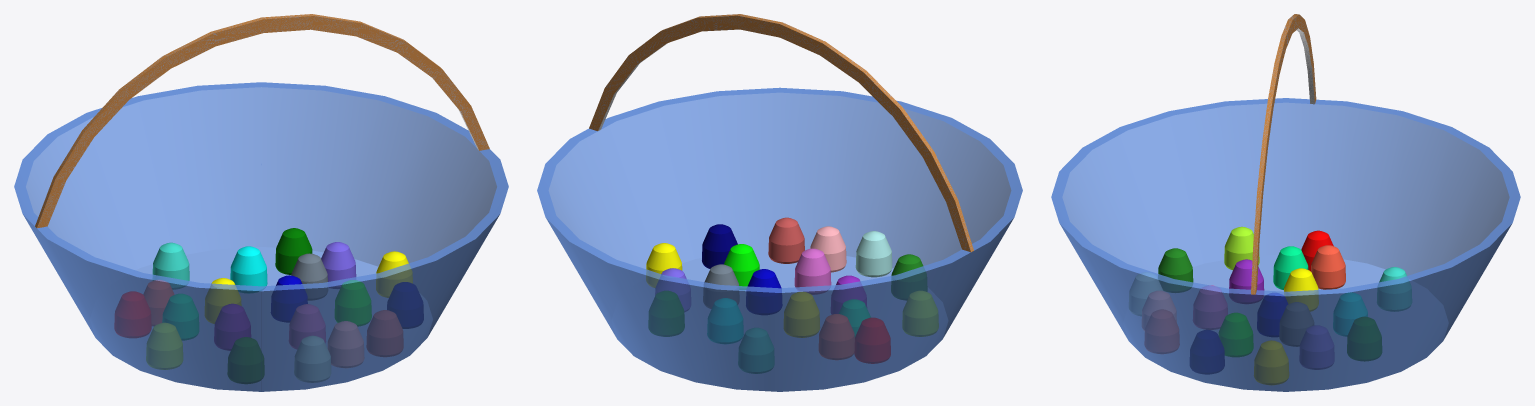
3 views of the same model, side by side, from view 1: azimuth 30°, elevation 25°; view 2: azimuth 150°, elevation 25°; view 3: azimuth 270°, elevation 25° (orthographic). The views are drawn at different scales.
Visible parts, largest first — view 1: SketchUp (×2), egg (×20); view 2: SketchUp (×2), egg (×20); view 3: SketchUp (×2), egg (×20).
Boxes of the visible parts, bbox=[...] form: SketchUp (×2): bbox=[14, 14, 508, 391]; egg (×20): bbox=[114, 228, 423, 383]; SketchUp (×2): bbox=[537, 14, 1022, 391]; egg (×20): bbox=[646, 217, 938, 373]; SketchUp (×2): bbox=[1051, 14, 1520, 391]; egg (×20): bbox=[1129, 226, 1411, 384].
Size of the model in its own units: 24.5 by 24.5 by 16.5.
